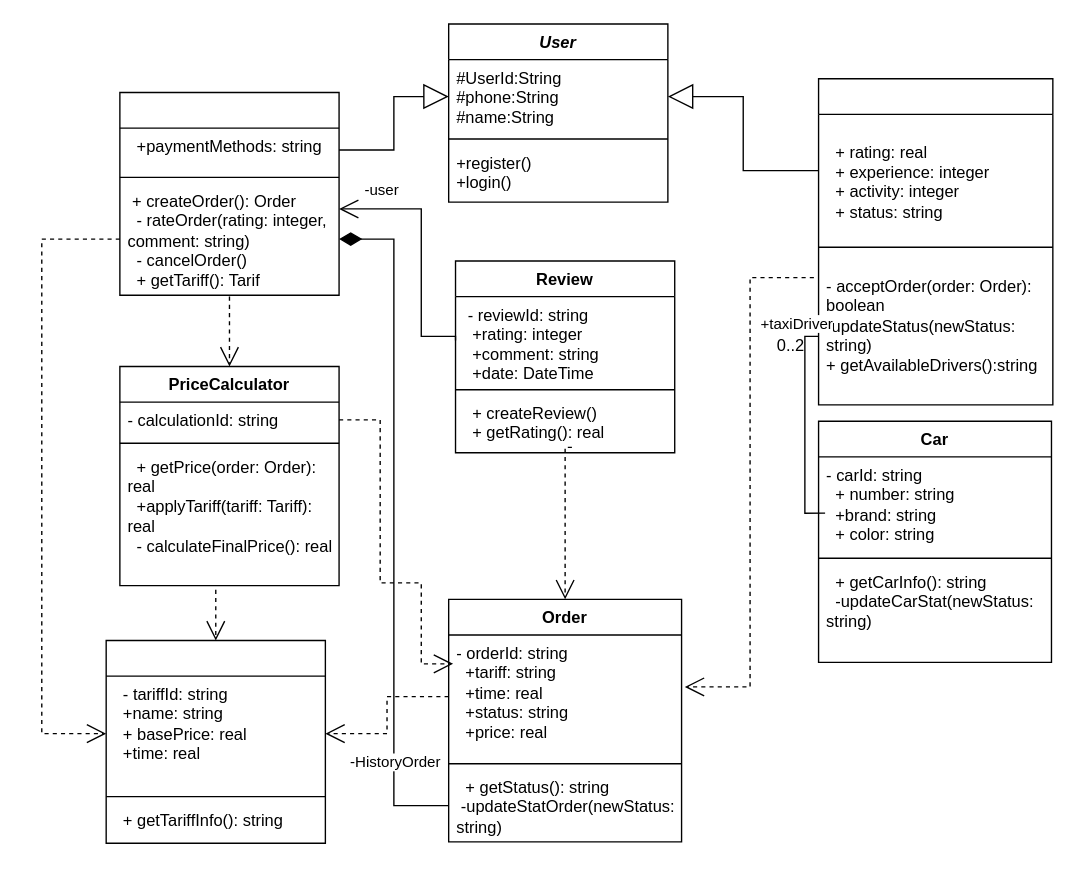
This 1077x871 diagram has some shape labels left out. The box of each missing label's shape, as (x1, y1, x2, y2) in pixels:
Customer: (119, 91, 339, 295)
Tarrif: (105, 639, 325, 843)
TaxiDriver: (817, 77, 1053, 405)
